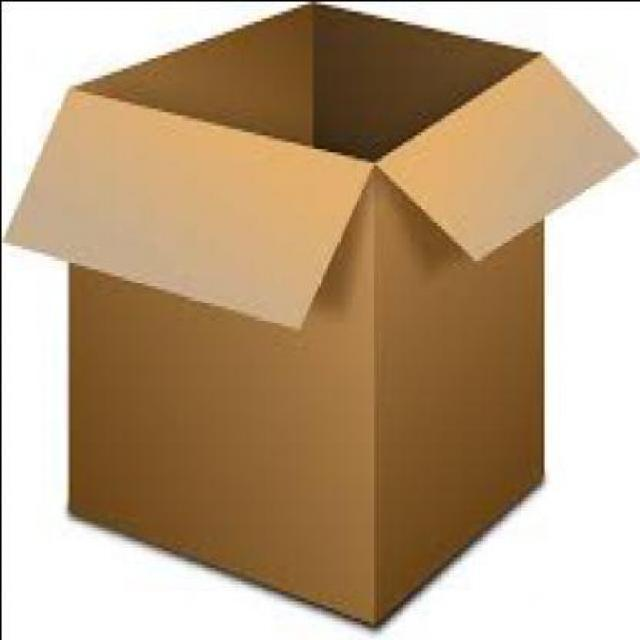box: (2, 2, 639, 625)
